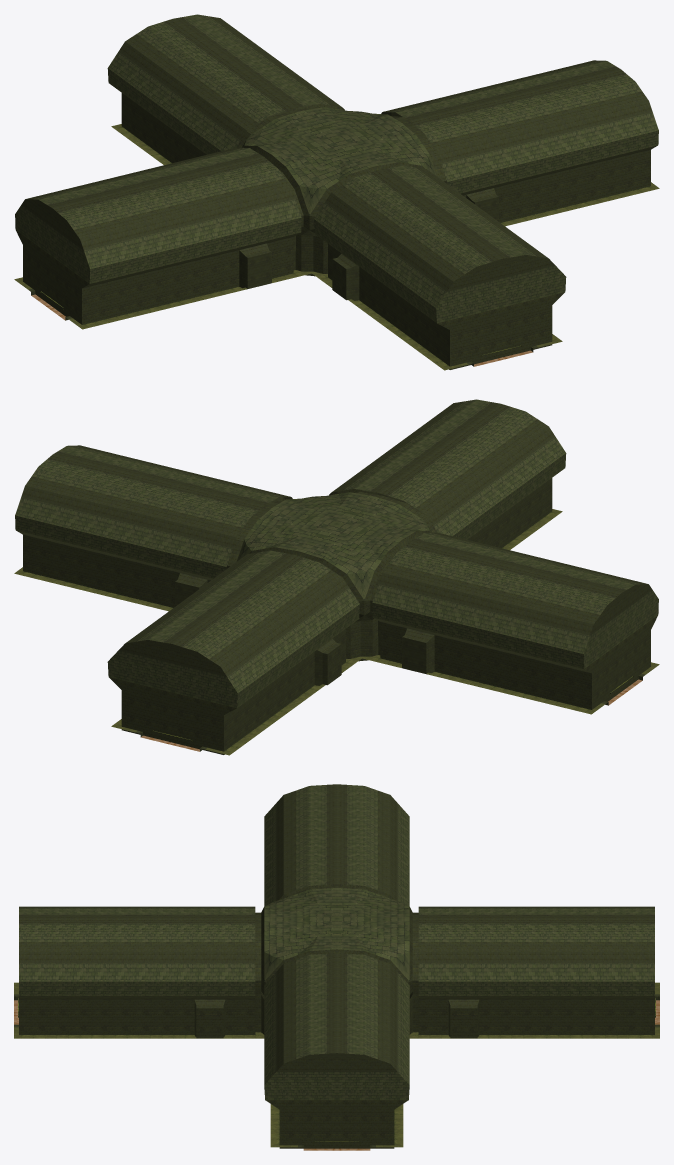
The model's file is Sewer_Cross.fbx.
3 views of the same model, one above another, from view 1: azimuth 30°, elevation 25°; view 2: azimuth 150°, elevation 25°; view 3: azimuth 270°, elevation 25° (orthographic). The views are drawn at different scales.
Visible parts, largest first — view 1: Sewer_Wall_MossyMasonry_Wall; view 2: Sewer_Wall_MossyMasonry_Wall; view 3: Sewer_Wall_MossyMasonry_Wall.
Part boxes in pixels (<box>): Sewer_Wall_MossyMasonry_Wall: <box>14,14,659,370</box>; Sewer_Wall_MossyMasonry_Wall: <box>14,399,659,755</box>; Sewer_Wall_MossyMasonry_Wall: <box>14,784,659,1150</box>.
Bounding box in the file's own units: 8232 × 1356 × 8232.
